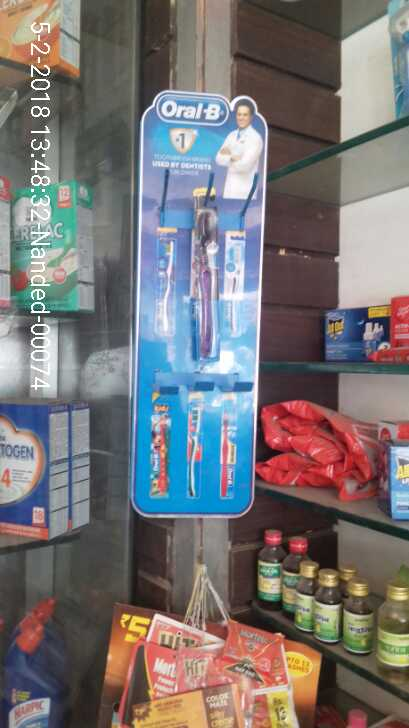oralb: (188, 199, 219, 364)
